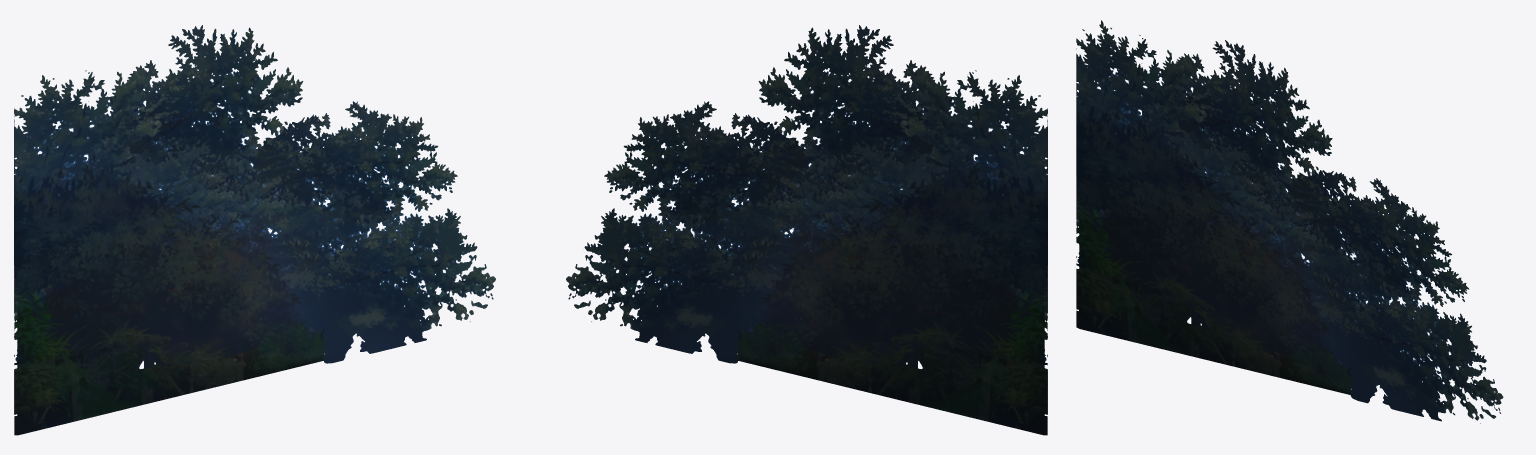
File: HuBian_NightZhiwu1_fbx.FBX
3 views of the same model, side by side, from view 1: azimuth 30°, elevation 25°; view 2: azimuth 150°, elevation 25°; view 3: azimuth 330°, elevation 25° (orthographic). The views are drawn at different scales.
Parts seen in each view (by area): view 1: Object029; view 2: Object029; view 3: Object029.
Part boxes in pixels (x1=…): Object029: x1=14, y1=25, x2=495, y2=435; Object029: x1=566, y1=25, x2=1047, y2=435; Object029: x1=1076, y1=20, x2=1503, y2=423.
Size of the model in its own units: 6.83 by 4.94 by 1.24e-06.
1 material, 1 textured.
